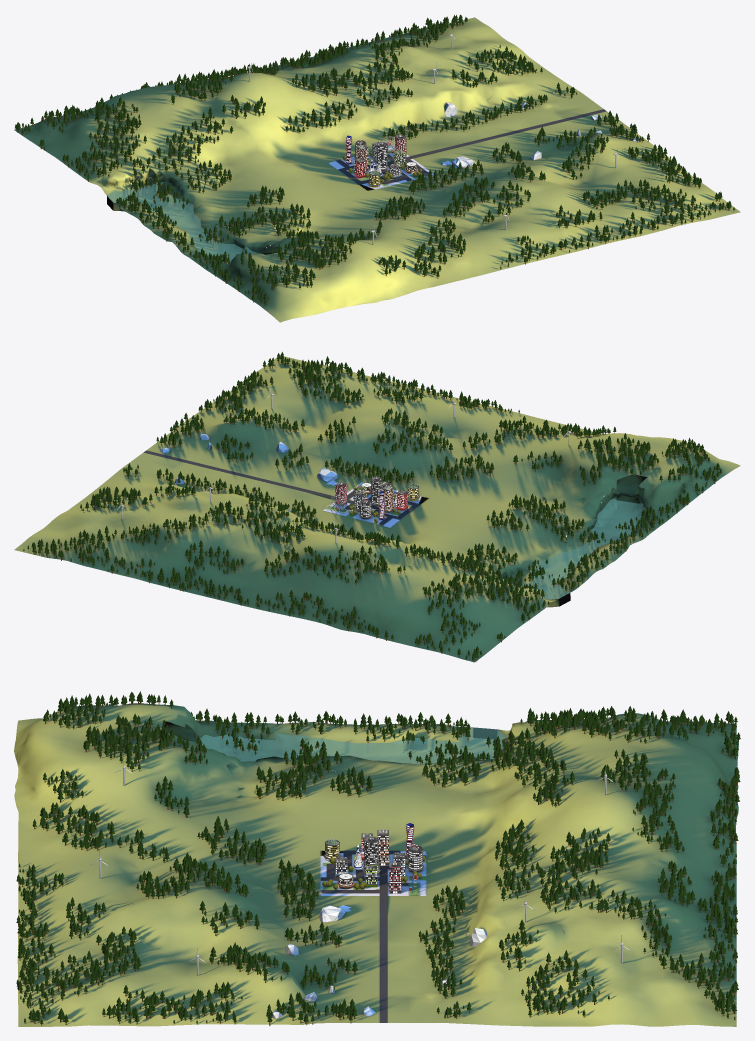
Rendered from isometric-cityscape12.glb.
3 renders of one model, top to bottom at view 1: azimuth 30°, elevation 25°; view 2: azimuth 150°, elevation 25°; view 3: azimuth 270°, elevation 25°, orthographic. The views are drawn at different scales.
Visible parts, largest first — view 1: Floor, PineTrees, Ocean, CityBase.001; view 2: Floor, PineTrees, Ocean, CityBase.001; view 3: Floor, PineTrees, Ocean, CityBase.001.
Part boxes in pixels (left/top/right/bottom): Floor: left=14, top=17, right=740, bottom=322; PineTrees: left=15, top=14, right=734, bottom=305; Ocean: left=107, top=182, right=258, bottom=263; CityBase.001: left=336, top=102, right=640, bottom=184; Floor: left=14, top=356, right=740, bottom=662; PineTrees: left=23, top=352, right=722, bottom=662; Ocean: left=521, top=498, right=646, bottom=599; CityBase.001: left=144, top=419, right=420, bottom=524; Floor: left=14, top=703, right=738, bottom=1026; PineTrees: left=16, top=691, right=740, bottom=1025; Ocean: left=200, top=727, right=507, bottom=764; CityBase.001: left=271, top=850, right=486, bottom=1022.
Bounding box in the file's own units: 67.75 × 10.41 × 67.76.
Materials: 35 (7 with a texture image).
